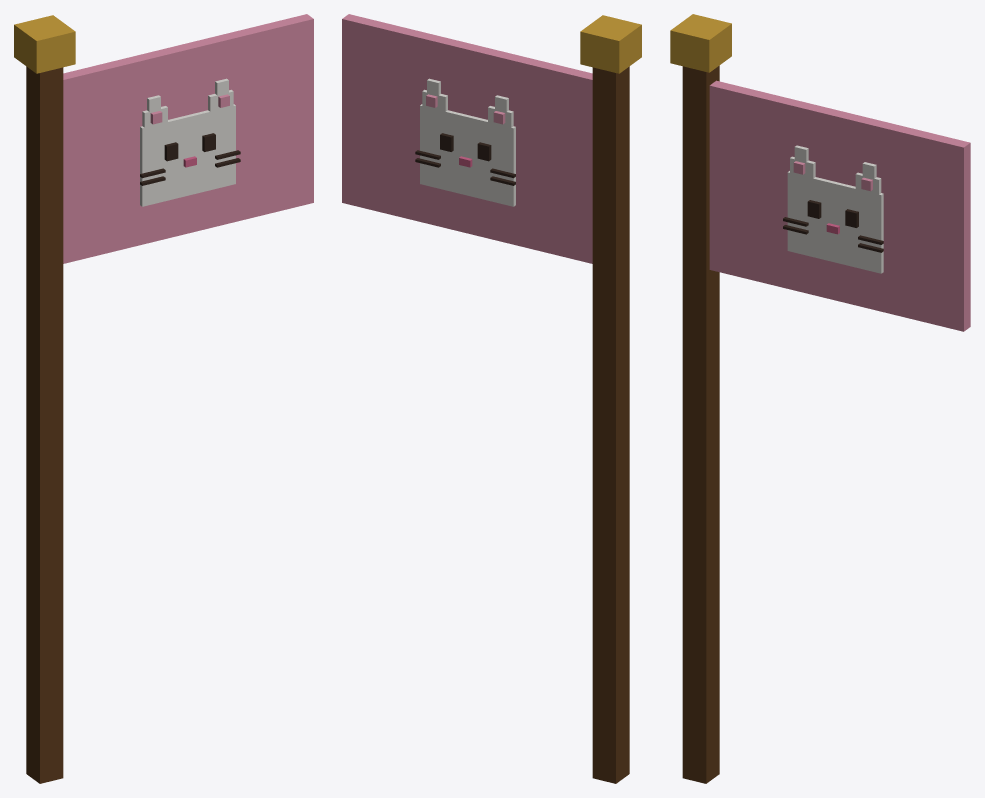
The model's file is ncb-cat-flag.glb.
The picture shows the model from 3 angles, left to right: view 1: azimuth 30°, elevation 25°; view 2: azimuth 150°, elevation 25°; view 3: azimuth 330°, elevation 25°; orthographic projection.
Parts seen in each view (by area): view 1: box-prop; view 2: box-prop; view 3: box-prop.
Part boxes in pixels (bbox=[...]): box-prop: bbox=[14, 14, 313, 783]; box-prop: bbox=[342, 14, 641, 783]; box-prop: bbox=[670, 14, 970, 783].
Bounding box in the file's own units: 1.46 × 3.66 × 0.2.
